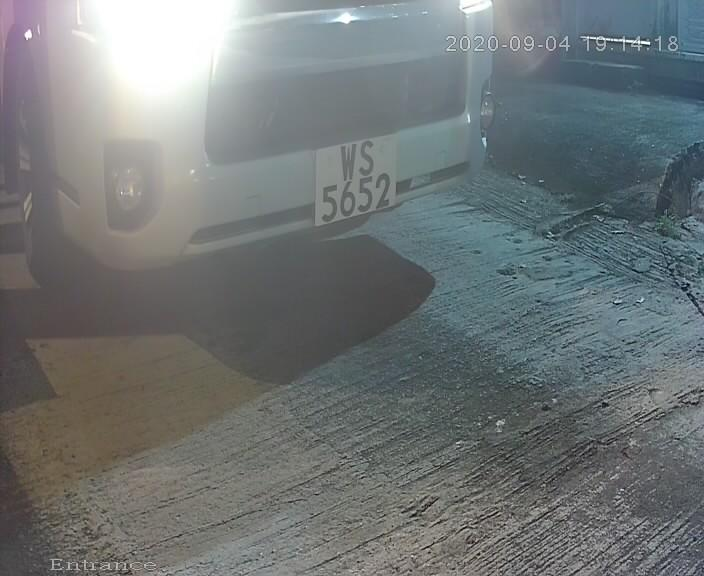License Plate: (299, 124, 412, 240)
